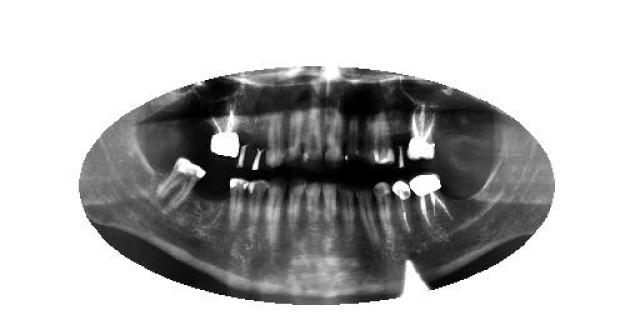Fillings: (154, 156, 205, 210), (228, 178, 248, 230)
Implant: (412, 172, 452, 232), (207, 98, 245, 158), (408, 106, 437, 162), (388, 178, 412, 238)
